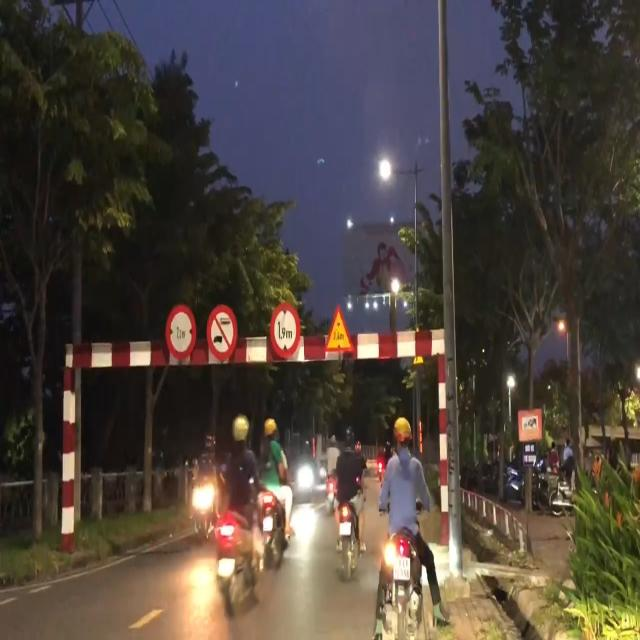Bien bao cam xe oto khach va xe oto tai: (205, 298, 240, 361)
Bien bao chieu cao tinh khong thuc te: (322, 301, 359, 359)
Bien bao han che chieu cao: (268, 301, 305, 362)
